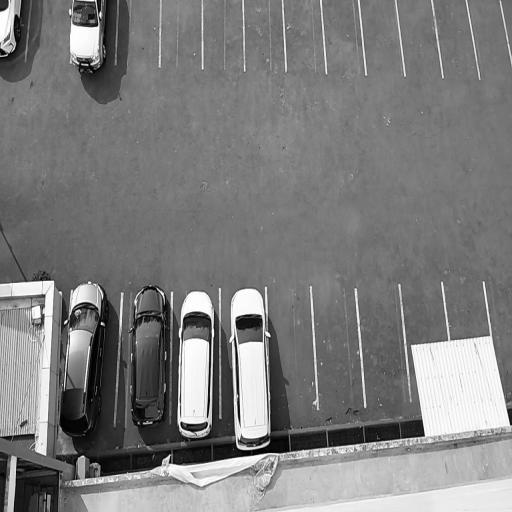Car: (58, 280, 109, 441), (226, 283, 274, 452), (176, 283, 217, 445), (130, 280, 168, 430), (67, 0, 109, 76)
Space Available: (312, 287, 365, 408), (357, 285, 410, 405), (268, 286, 317, 409), (431, 0, 479, 79), (395, 0, 443, 76), (467, 0, 512, 80), (359, 0, 405, 76), (321, 0, 366, 74), (283, 0, 326, 73), (116, 0, 161, 67), (244, 0, 286, 71), (401, 282, 449, 344), (161, 0, 203, 70), (203, 0, 244, 70), (444, 280, 491, 339), (26, 0, 72, 59)
